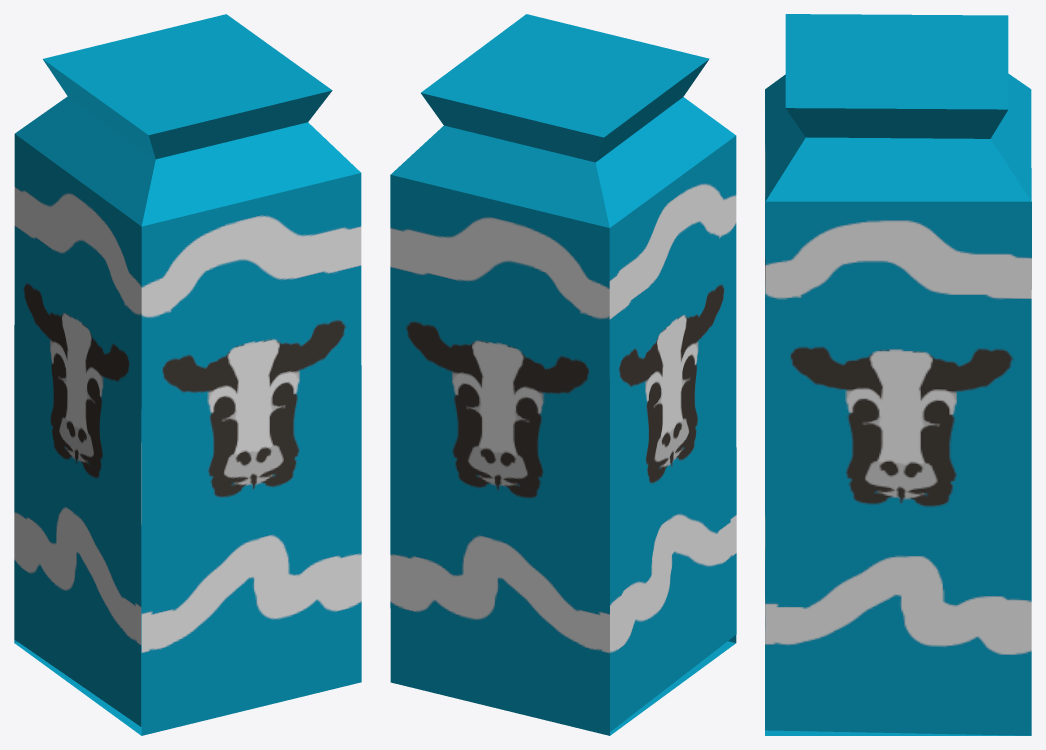
File: package5.glb
The picture shows the model from 3 angles, left to right: view 1: azimuth 30°, elevation 25°; view 2: azimuth 150°, elevation 25°; view 3: azimuth 270°, elevation 25°; orthographic projection. The views are drawn at different scales.
Visible parts, largest first — view 1: Milk; view 2: Milk; view 3: Milk.
Part boxes in pixels (bbox=[...]): Milk: bbox=[14, 14, 361, 735]; Milk: bbox=[390, 14, 736, 735]; Milk: bbox=[765, 14, 1031, 735].
Size of the model in its own units: 0.1525 by 0.3897 by 0.1525.
Materials: 1 (1 with a texture image).
